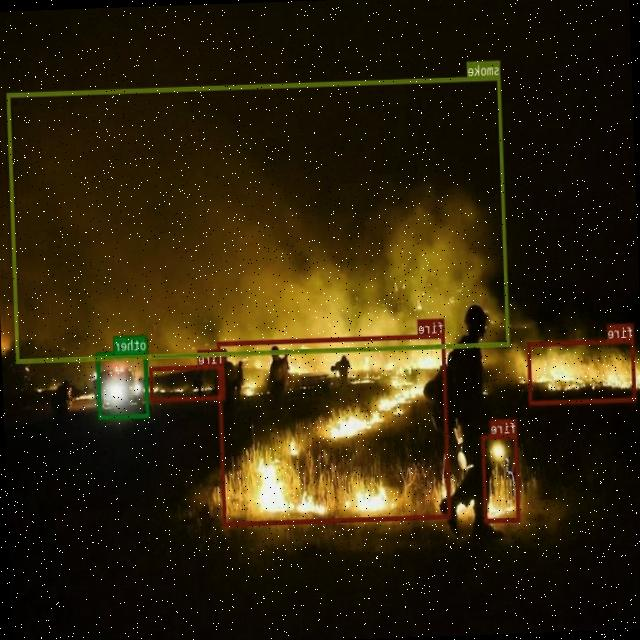fire: (218, 332, 452, 526), (528, 338, 636, 404), (482, 433, 520, 522), (150, 362, 226, 402)
smoke: (8, 75, 510, 362)
